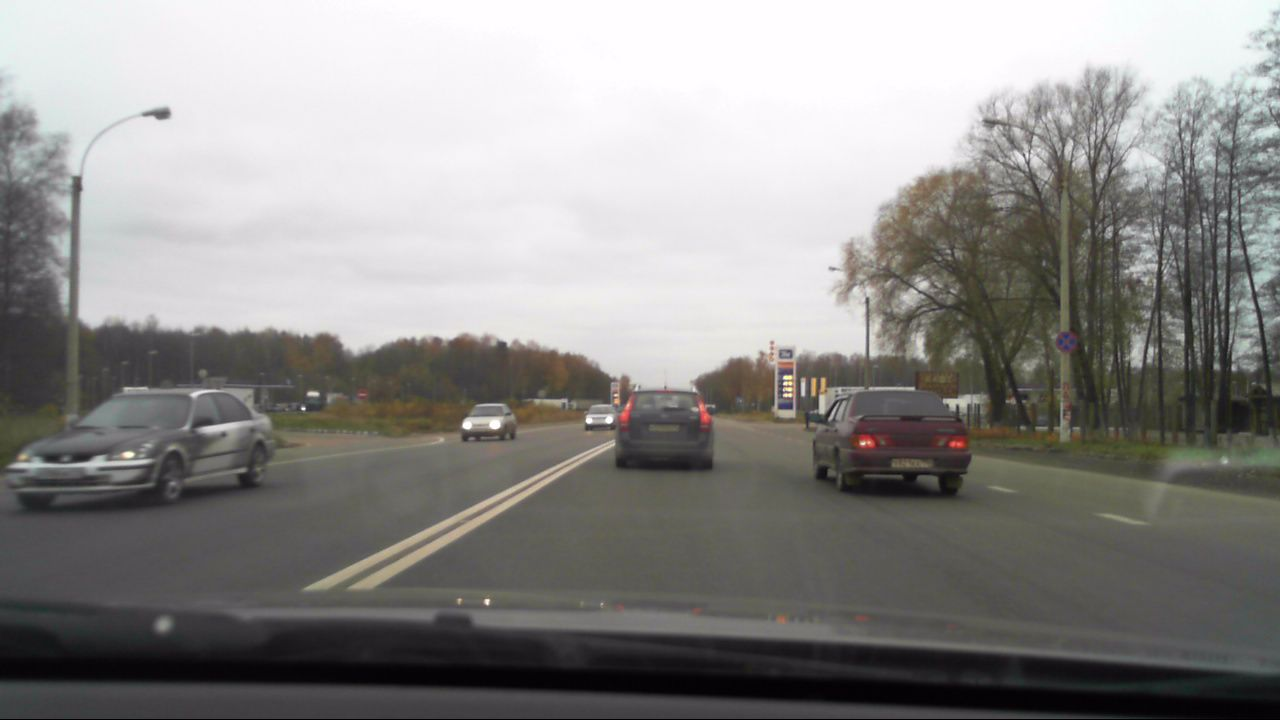No Parking: (1055, 330, 1080, 354)
